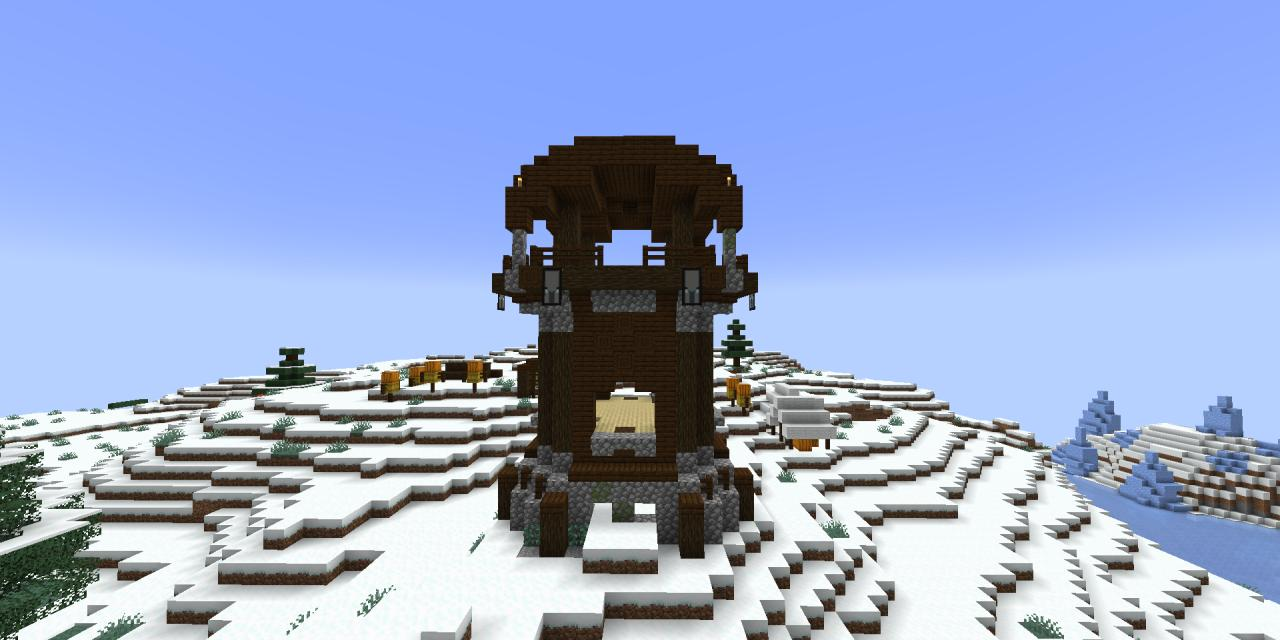pillager outpost: (482, 125, 770, 572)
